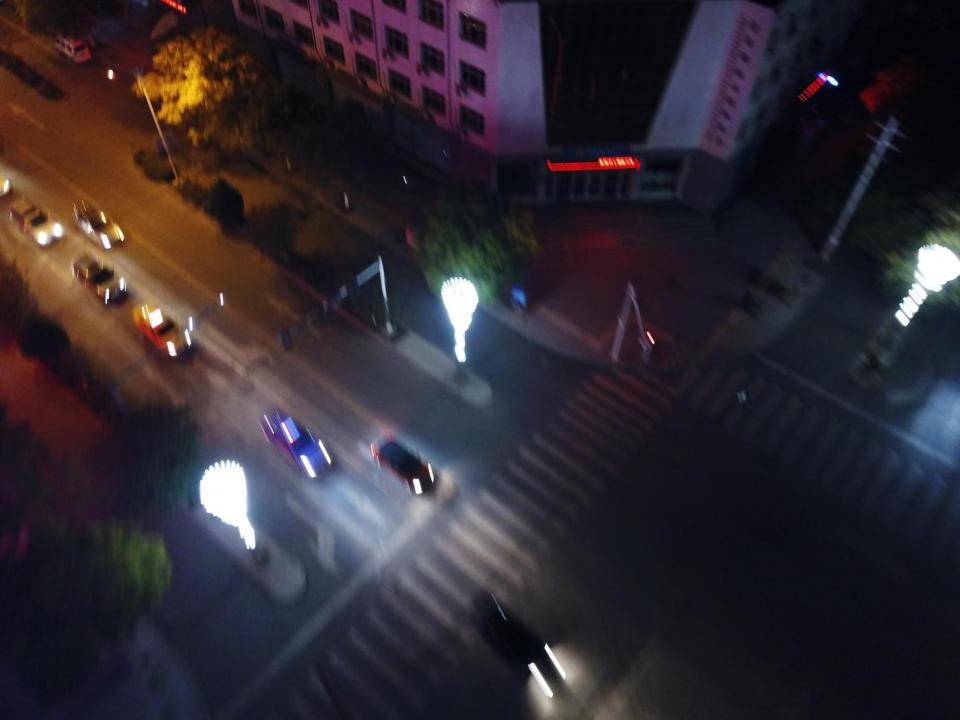car: (471, 589, 571, 694), (258, 411, 335, 476), (370, 432, 440, 495), (133, 303, 193, 359), (71, 253, 126, 308), (72, 201, 125, 247)
van: (9, 199, 64, 245), (55, 34, 90, 63)
